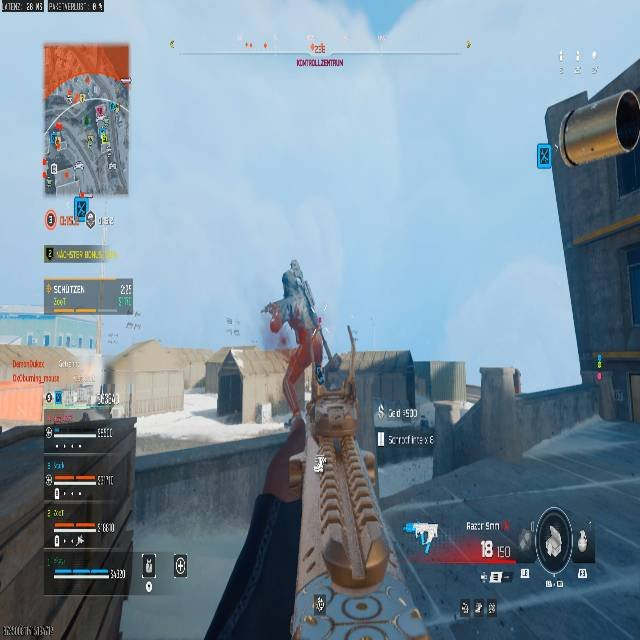head: (281, 269, 299, 296)
player: (268, 269, 325, 433), (79, 411, 91, 423)
